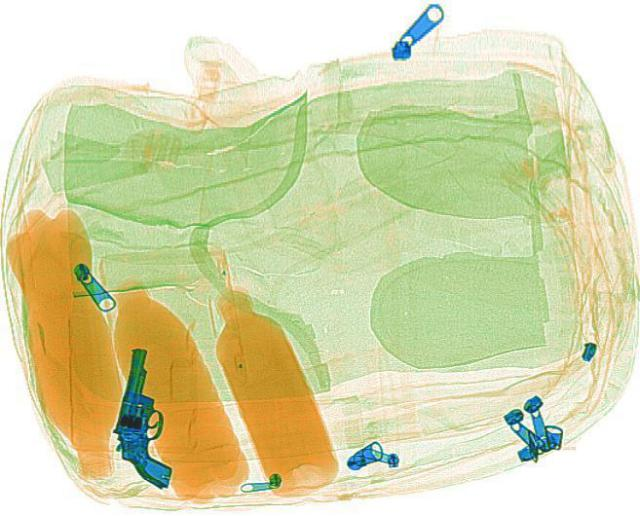Gun: (104, 345, 192, 488)
